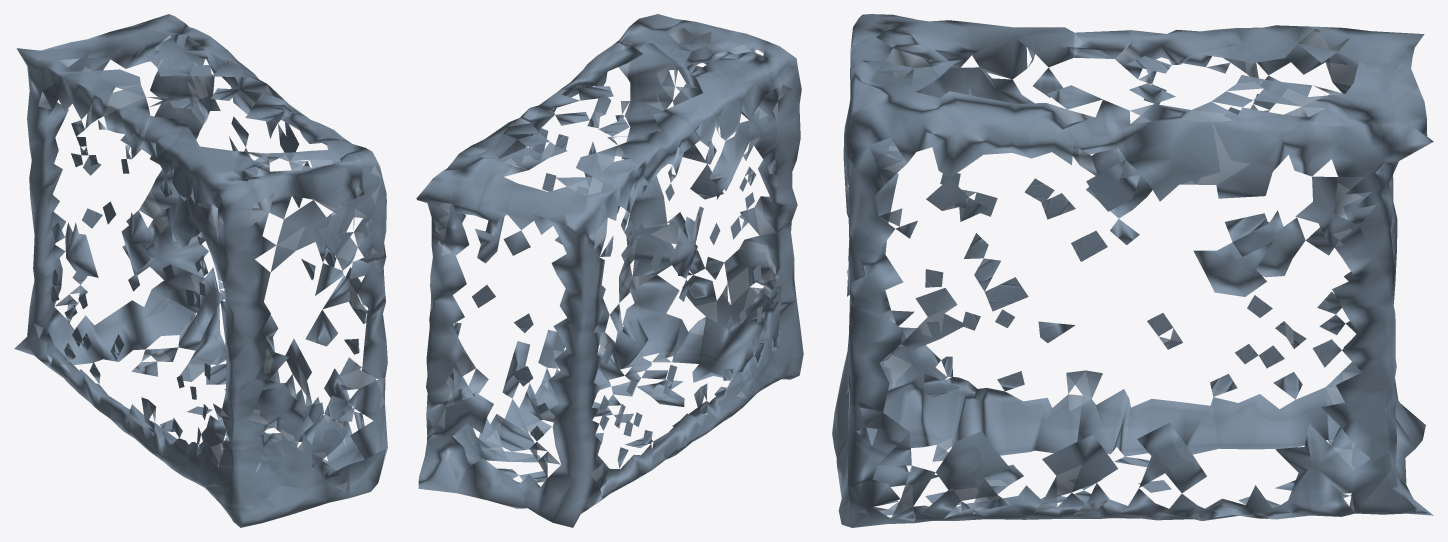
The model's file is dresser_0103_recon.obj.
3 views of the same model, side by side, from view 1: azimuth 30°, elevation 25°; view 2: azimuth 150°, elevation 25°; view 3: azimuth 270°, elevation 25° (orthographic). The views are drawn at different scales.
Size of the model in its own units: 0.5916 by 1.1 by 1.37.
